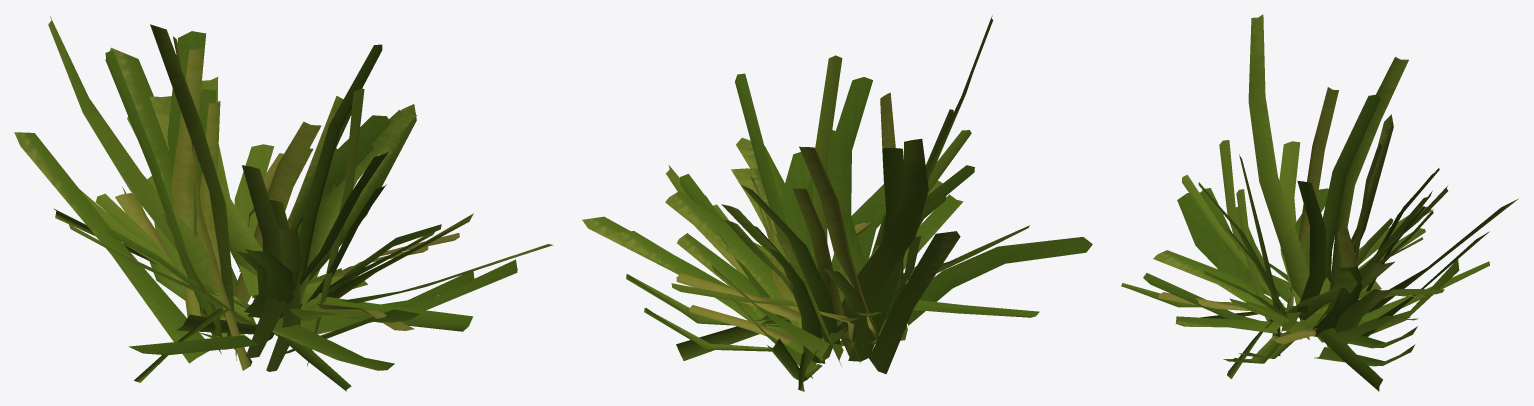
The model's file is clump_001_lod1.gltf.
The picture shows the model from 3 angles, left to right: view 1: azimuth 30°, elevation 25°; view 2: azimuth 150°, elevation 25°; view 3: azimuth 270°, elevation 25°; orthographic projection. The views are drawn at different scales.
Visible parts, largest first — view 1: clump.001; view 2: clump.001; view 3: clump.001.
Boxes of the visible parts, <box> form: clump.001: <box>14,16,553,391</box>; clump.001: <box>582,15,1092,391</box>; clump.001: <box>1121,14,1517,391</box>.
Bounding box in the file's own units: 0.2497 × 0.2193 × 0.2788.
1 material, 1 textured.
